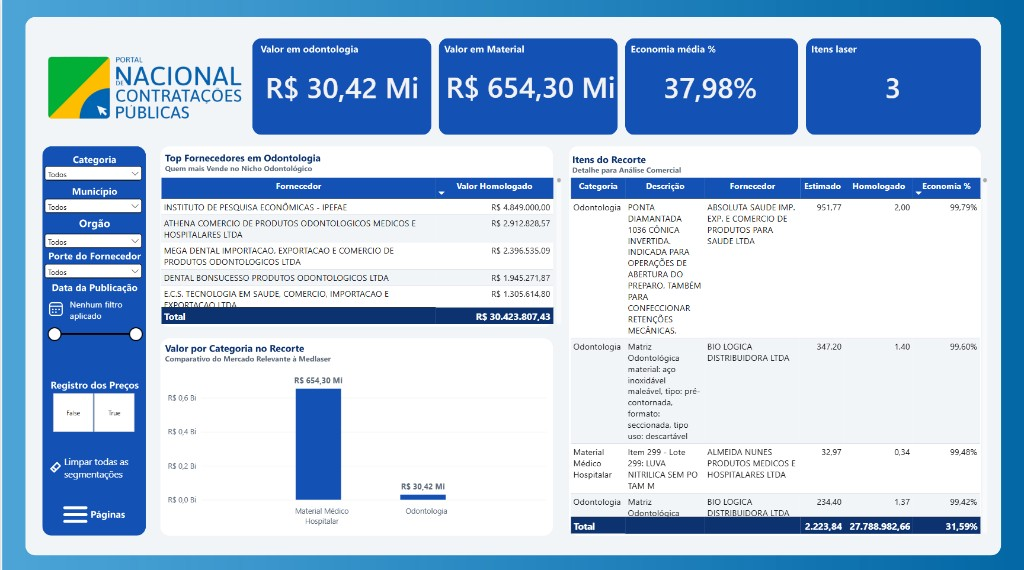

The dashboard page shown, as its layout file describes it:
{"tool":"powerbi","page":{"name":" Recorte Medlaser","canvas":[1920,1080],"ordinal":3},"visuals":[{"type":"cardVisual","fields":{"Data":["Sum(pncp vw_analitica.valor_total_homologado)"]},"box":[474,75.3,330.1,173],"z":0},{"type":"cardVisual","fields":{"Data":["Medidas.Valor Homologado"]},"box":[817.8,74.7,350.8,172.3],"z":1000},{"type":"cardVisual","fields":{"Data":["Medidas.Economia Media %"]},"box":[1168.5,75.3,322.2,173],"z":2000},{"type":"tableEx","fields":{"Values":["pncp vw_analitica.Categoria Label","pncp vw_analitica.descricao","pncp vw_analitica.fornecedor","Avg(pncp vw_analitica.valor_unitario_estimado)","Sum(pncp vw_analitica.valor_unitario_homologado)","Medidas.Economia Media %"]},"box":[1051.6,318.9,814.4,698.3],"z":3000},{"type":"cardVisual","fields":{"Data":["Medidas.Itens Laser"]},"box":[1510.4,75.3,324.8,173],"z":4000},{"type":"columnChart","fields":{"Category":["pncp vw_analitica.Categoria Label"],"Y":["Medidas.Valor Homologado"]},"box":[295.7,677.3,743.3,327.4],"z":5000},{"type":"tableEx","fields":{"Values":["pncp vw_analitica.fornecedor","Medidas.Valor Homologado"]},"box":[283.6,318.5,782.5,305.5],"z":6000},{"type":"slicer","fields":{"Values":["pncp vw_analitica.Categoria Label"]},"box":[77.1,306.9,192,66.9],"z":7000},{"type":"slicer","fields":{"Values":["pncp vw_analitica.municipio"]},"box":[77.1,368,192,66.9],"z":8000},{"type":"slicer","fields":{"Values":["pncp vw_analitica.orgao"]},"box":[77.1,433.5,192,52.4],"z":9000},{"type":"slicer","fields":{"Values":["pncp vw_analitica.porte_fornecedor"]},"box":[77.1,490.2,192,56.7],"z":10000},{"type":"slicer","fields":{"Values":["pncp vw_analitica.data_publicacao"]},"box":[77.1,555.6,192,170.2],"z":11000},{"type":"slicer","fields":{"Values":["pncp vw_analitica.registro_precos"]},"box":[77.1,736,192,75.6],"z":12000},{"type":"actionButton","box":[112.6,942.1,123.2,41.1],"z":13000},{"type":"actionButton","box":[80,834.9,189.1,85.8],"z":15000}]}

Visuals, with their boxes in screenshot pixels (x1, y1, x2, y2), scaled from the page's 1920x1080 canvas onto the 1024x570 screenshot:
cardVisual - Sum(pncp vw_analitica.valor_total_homologado): locate(253, 40, 429, 131)
cardVisual - Medidas.Valor Homologado: locate(436, 39, 623, 130)
cardVisual - Medidas.Economia Media %: locate(623, 40, 795, 131)
tableEx - pncp vw_analitica.Categoria Label x pncp vw_analitica.descricao: locate(561, 168, 995, 537)
cardVisual - Medidas.Itens Laser: locate(806, 40, 979, 131)
columnChart - pncp vw_analitica.Categoria Label x Medidas.Valor Homologado: locate(158, 357, 554, 530)
tableEx - pncp vw_analitica.fornecedor x Medidas.Valor Homologado: locate(151, 168, 569, 329)
slicer - pncp vw_analitica.Categoria Label: locate(41, 162, 144, 197)
slicer - pncp vw_analitica.municipio: locate(41, 194, 144, 230)
slicer - pncp vw_analitica.orgao: locate(41, 229, 144, 256)
slicer - pncp vw_analitica.porte_fornecedor: locate(41, 259, 144, 289)
slicer - pncp vw_analitica.data_publicacao: locate(41, 293, 144, 383)
slicer - pncp vw_analitica.registro_precos: locate(41, 388, 144, 428)
actionButton: locate(60, 497, 126, 519)
actionButton: locate(43, 441, 144, 486)
